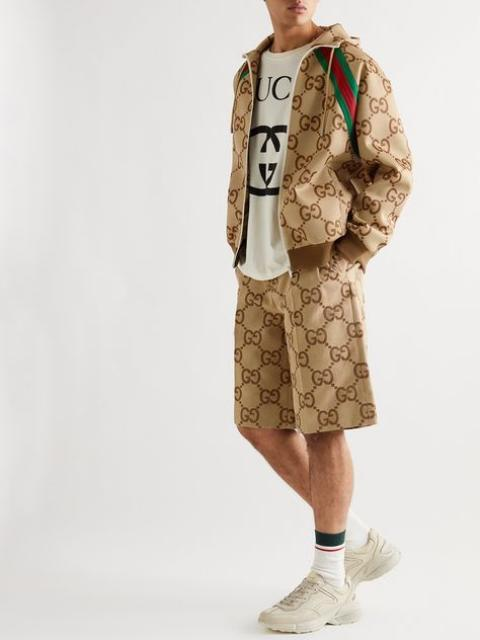Gucci: (245, 122, 291, 198)
